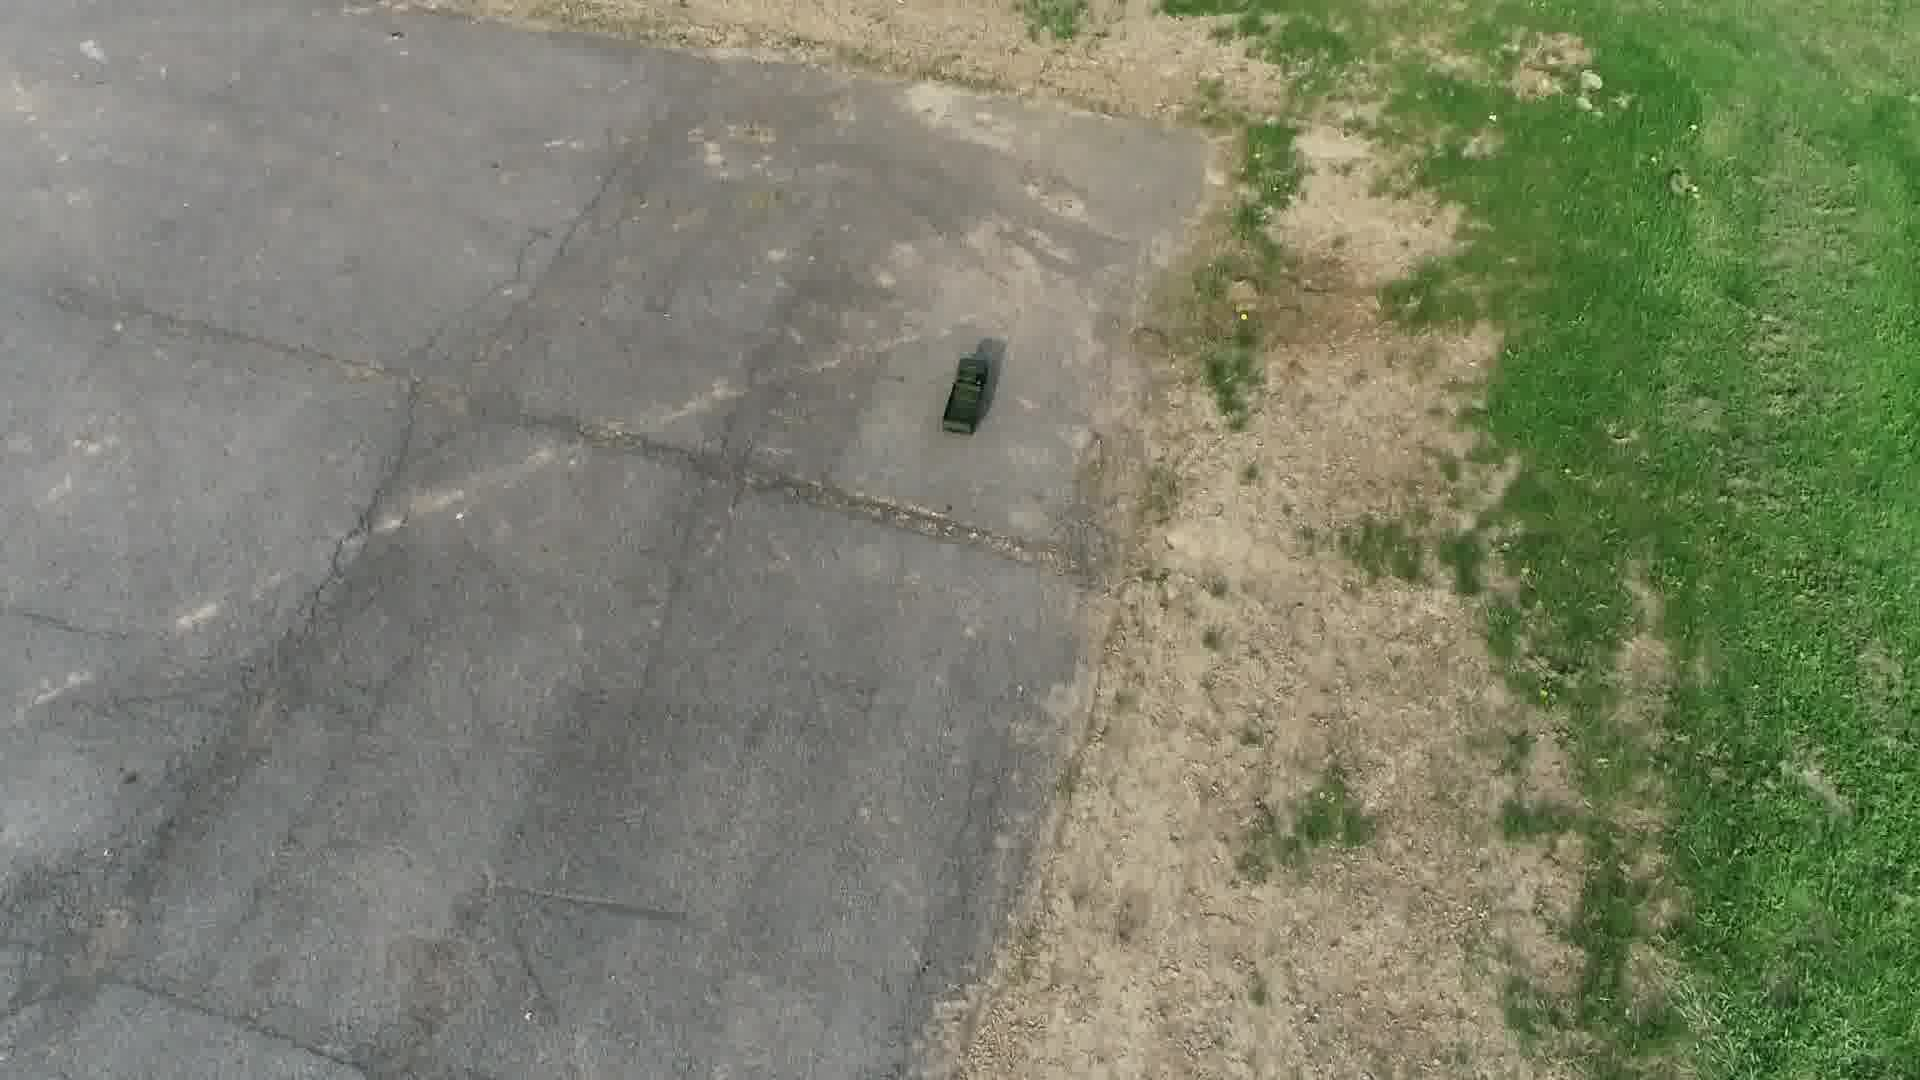transporter9: (938, 353, 996, 440)
